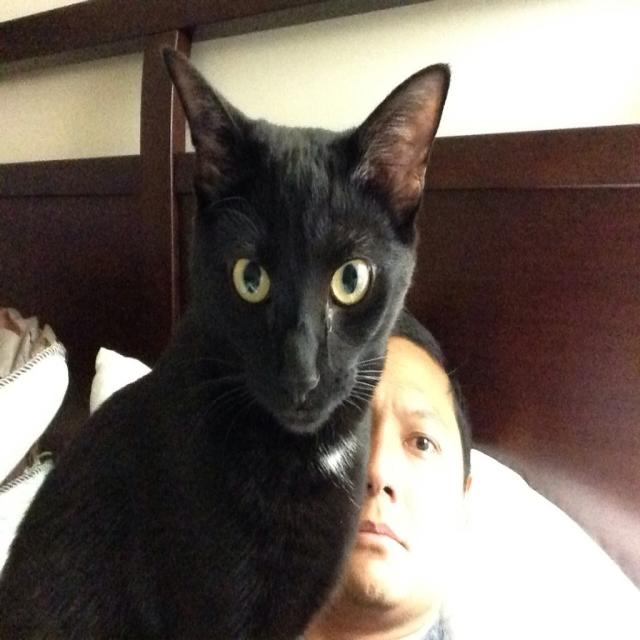Cat: (0, 44, 452, 638)
